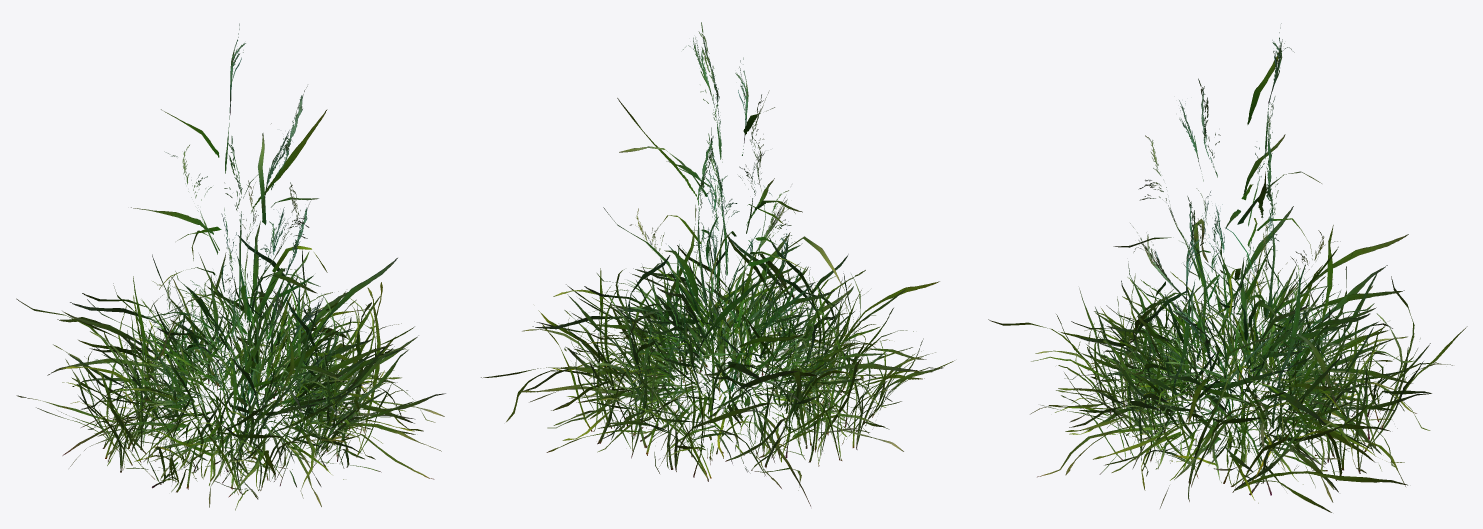
File: grass_medium_01.gltf
3 views of the same model, side by side, from view 1: azimuth 30°, elevation 25°; view 2: azimuth 150°, elevation 25°; view 3: azimuth 270°, elevation 25° (orthographic). The views are drawn at different scales.
Visible parts, largest first — view 1: grass_medium_01_large_a_LOD0, grass_medium_01_large_c_LOD0, grass_medium_01_large_b_LOD0, grass_medium_01_mid_a_LOD0, grass_medium_01_mid_c_LOD0, grass_medium_01_tall_a_LOD0, grass_medium_01_tall_b_LOD0, grass_medium_01_tall_c_LOD0, grass_medium_01_mid_b_LOD0, grass_medium_01_small_b_LOD0, grass_medium_01_small_a_LOD0; view 2: grass_medium_01_large_a_LOD0, grass_medium_01_large_c_LOD0, grass_medium_01_large_b_LOD0, grass_medium_01_mid_a_LOD0, grass_medium_01_mid_c_LOD0, grass_medium_01_mid_b_LOD0, grass_medium_01_tall_a_LOD0, grass_medium_01_tall_b_LOD0, grass_medium_01_tall_c_LOD0, grass_medium_01_small_b_LOD0, grass_medium_01_small_a_LOD0; view 3: grass_medium_01_large_a_LOD0, grass_medium_01_large_c_LOD0, grass_medium_01_large_b_LOD0, grass_medium_01_mid_a_LOD0, grass_medium_01_mid_c_LOD0, grass_medium_01_tall_a_LOD0, grass_medium_01_mid_b_LOD0, grass_medium_01_tall_b_LOD0, grass_medium_01_tall_c_LOD0, grass_medium_01_small_b_LOD0, grass_medium_01_small_a_LOD0.
Boxes of the visible parts, x1=… form: grass_medium_01_large_a_LOD0: x1=16, y1=221, x2=418, y2=510; grass_medium_01_large_c_LOD0: x1=68, y1=277, x2=445, y2=499; grass_medium_01_large_b_LOD0: x1=47, y1=251, x2=444, y2=507; grass_medium_01_mid_a_LOD0: x1=62, y1=201, x2=415, y2=490; grass_medium_01_mid_c_LOD0: x1=157, y1=284, x2=397, y2=487; grass_medium_01_tall_a_LOD0: x1=131, y1=23, x2=327, y2=320; grass_medium_01_tall_b_LOD0: x1=157, y1=86, x2=327, y2=402; grass_medium_01_tall_c_LOD0: x1=152, y1=136, x2=364, y2=437; grass_medium_01_mid_b_LOD0: x1=109, y1=218, x2=367, y2=486; grass_medium_01_small_b_LOD0: x1=135, y1=311, x2=348, y2=481; grass_medium_01_small_a_LOD0: x1=149, y1=268, x2=345, y2=473; grass_medium_01_large_a_LOD0: x1=481, y1=205, x2=954, y2=490; grass_medium_01_large_c_LOD0: x1=523, y1=232, x2=926, y2=488; grass_medium_01_large_b_LOD0: x1=520, y1=228, x2=910, y2=473; grass_medium_01_mid_a_LOD0: x1=583, y1=133, x2=858, y2=506; grass_medium_01_mid_c_LOD0: x1=551, y1=233, x2=837, y2=440; grass_medium_01_mid_b_LOD0: x1=582, y1=173, x2=849, y2=458; grass_medium_01_tall_a_LOD0: x1=616, y1=37, x2=802, y2=374; grass_medium_01_tall_b_LOD0: x1=619, y1=22, x2=847, y2=313; grass_medium_01_tall_c_LOD0: x1=653, y1=127, x2=812, y2=419; grass_medium_01_small_b_LOD0: x1=626, y1=273, x2=846, y2=451; grass_medium_01_small_a_LOD0: x1=602, y1=216, x2=855, y2=435; grass_medium_01_large_a_LOD0: x1=988, y1=206, x2=1467, y2=512; grass_medium_01_large_c_LOD0: x1=1069, y1=250, x2=1430, y2=492; grass_medium_01_large_b_LOD0: x1=1030, y1=227, x2=1430, y2=508; grass_medium_01_mid_a_LOD0: x1=1080, y1=196, x2=1395, y2=469; grass_medium_01_mid_c_LOD0: x1=1098, y1=243, x2=1390, y2=487; grass_medium_01_tall_a_LOD0: x1=1113, y1=23, x2=1340, y2=403; grass_medium_01_mid_b_LOD0: x1=1069, y1=213, x2=1360, y2=484; grass_medium_01_tall_b_LOD0: x1=1128, y1=78, x2=1321, y2=344; grass_medium_01_tall_c_LOD0: x1=1130, y1=127, x2=1306, y2=425; grass_medium_01_small_b_LOD0: x1=1112, y1=282, x2=1374, y2=459; grass_medium_01_small_a_LOD0: x1=1131, y1=262, x2=1355, y2=438.
Size of the model in its own units: 0.317 by 0.3426 by 0.3266.
1 material, 1 textured.
